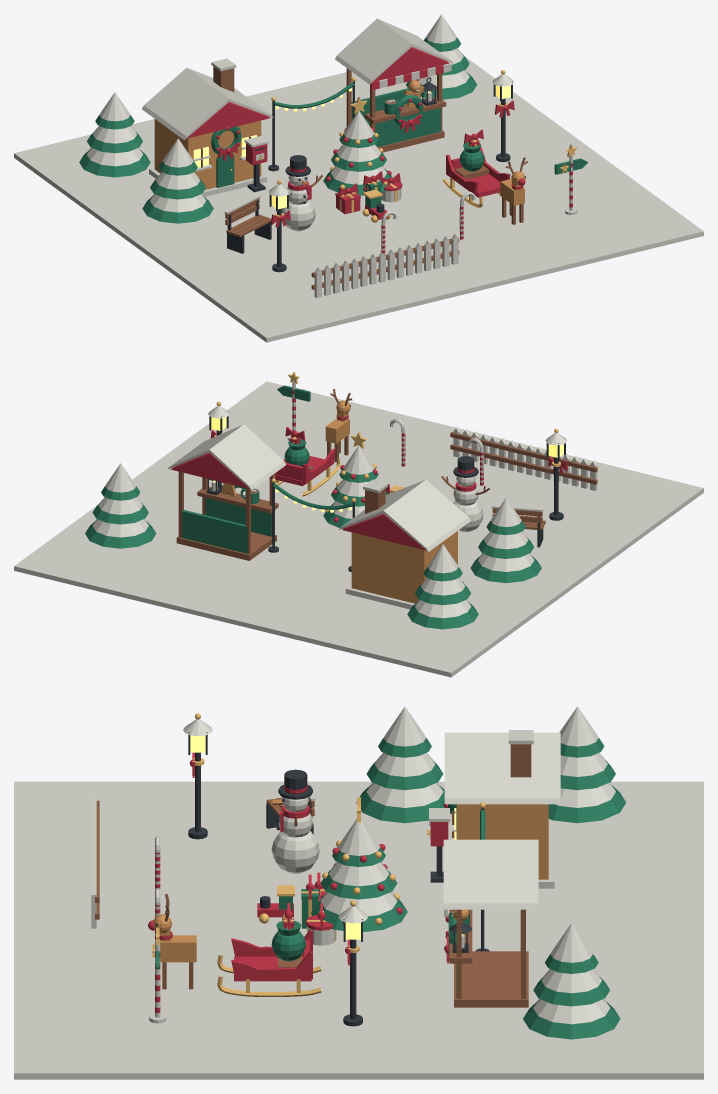
Rendered from christmas-village-christmas-village-scen-0bd6c7d0-starter-scene__19777.glb.
3 renders of one model, top to bottom at view 1: azimuth 30°, elevation 25°; view 2: azimuth 150°, elevation 25°; view 3: azimuth 270°, elevation 25°, orthographic. The views are drawn at different scales.
Visible parts, largest first — view 1: 008-snow-ground-tile/0, 002-snow-ground-tile/0, 005-snow-ground-tile/0, 001-snow-ground-tile/0, 007-snow-ground-tile/0, 004-snow-ground-tile/0, 000-snow-ground-tile/0, 003-snow-ground-tile/0, 010-snowy-cottage/3, 006-snow-ground-tile/0, 011-christmas-market-stall/9, 010-snowy-cottage/1 (+23 smaller); view 2: 003-snow-ground-tile/0, 002-snow-ground-tile/0, 000-snow-ground-tile/0, 006-snow-ground-tile/0, 008-snow-ground-tile/0, 001-snow-ground-tile/0, 005-snow-ground-tile/0, 010-snowy-cottage/1, 007-snow-ground-tile/0, 010-snowy-cottage/3, 004-snow-ground-tile/0, 011-christmas-market-stall/9 (+25 smaller); view 3: 008-snow-ground-tile/0, 007-snow-ground-tile/0, 002-snow-ground-tile/0, 005-snow-ground-tile/0, 006-snow-ground-tile/0, 003-snow-ground-tile/0, 000-snow-ground-tile/0, 004-snow-ground-tile/0, 001-snow-ground-tile/0, 010-snowy-cottage/3, 011-christmas-market-stall/9, 011-christmas-market-stall/0 (+31 smaller).
Part boxes in pixels (x1,y1,x2,y2): 008-snow-ground-tile/0: (477, 170, 703, 271); 002-snow-ground-tile/0: (182, 241, 412, 342); 005-snow-ground-tile/0: (328, 205, 558, 306); 001-snow-ground-tile/0: (98, 186, 327, 280); 007-snow-ground-tile/0: (397, 108, 619, 203); 004-snow-ground-tile/0: (260, 149, 471, 240); 000-snow-ground-tile/0: (14, 119, 155, 218); 003-snow-ground-tile/0: (246, 82, 346, 174); 010-snowy-cottage/3: (142, 68, 273, 139); 006-snow-ground-tile/0: (306, 56, 535, 130); 011-christmas-market-stall/9: (335, 18, 453, 84); 010-snowy-cottage/1: (154, 119, 261, 189); 003-snow-ground-tile/0: (159, 546, 359, 641); 002-snow-ground-tile/0: (482, 454, 703, 553); 000-snow-ground-tile/0: (305, 595, 535, 677); 006-snow-ground-tile/0: (14, 505, 223, 606); 008-snow-ground-tile/0: (183, 381, 411, 477); 001-snow-ground-tile/0: (458, 516, 619, 615); 005-snow-ground-tile/0: (330, 417, 546, 507); 010-snowy-cottage/1: (351, 531, 457, 603); 007-snow-ground-tile/0: (132, 443, 324, 523); 010-snowy-cottage/3: (339, 479, 470, 551); 004-snow-ground-tile/0: (270, 479, 351, 565); 011-christmas-market-stall/9: (167, 424, 285, 490); 008-snow-ground-tile/0: (14, 976, 243, 1079); 007-snow-ground-tile/0: (244, 976, 473, 1079); 002-snow-ground-tile/0: (14, 781, 243, 878); 005-snow-ground-tile/0: (14, 879, 243, 976); 006-snow-ground-tile/0: (474, 976, 703, 1079); 003-snow-ground-tile/0: (474, 879, 703, 976); 000-snow-ground-tile/0: (548, 781, 703, 878); 004-snow-ground-tile/0: (244, 879, 473, 976); 001-snow-ground-tile/0: (244, 781, 451, 878); 010-snowy-cottage/3: (444, 732, 560, 804); 011-christmas-market-stall/9: (443, 839, 538, 909); 011-christmas-market-stall/0: (454, 951, 528, 1007).
Size of the model in its own units: 12 by 2.88 by 12.
